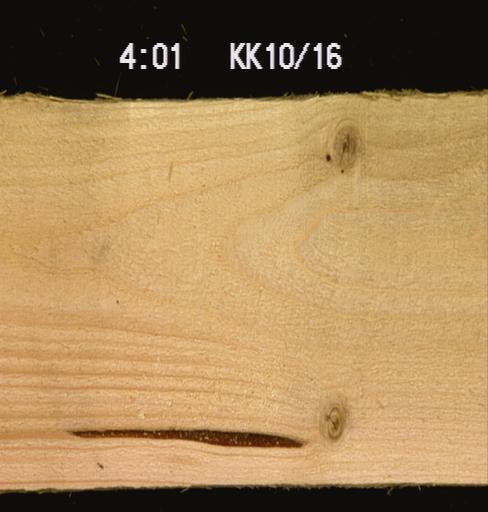sound_knot: (322, 124, 363, 170), (323, 404, 345, 440)
